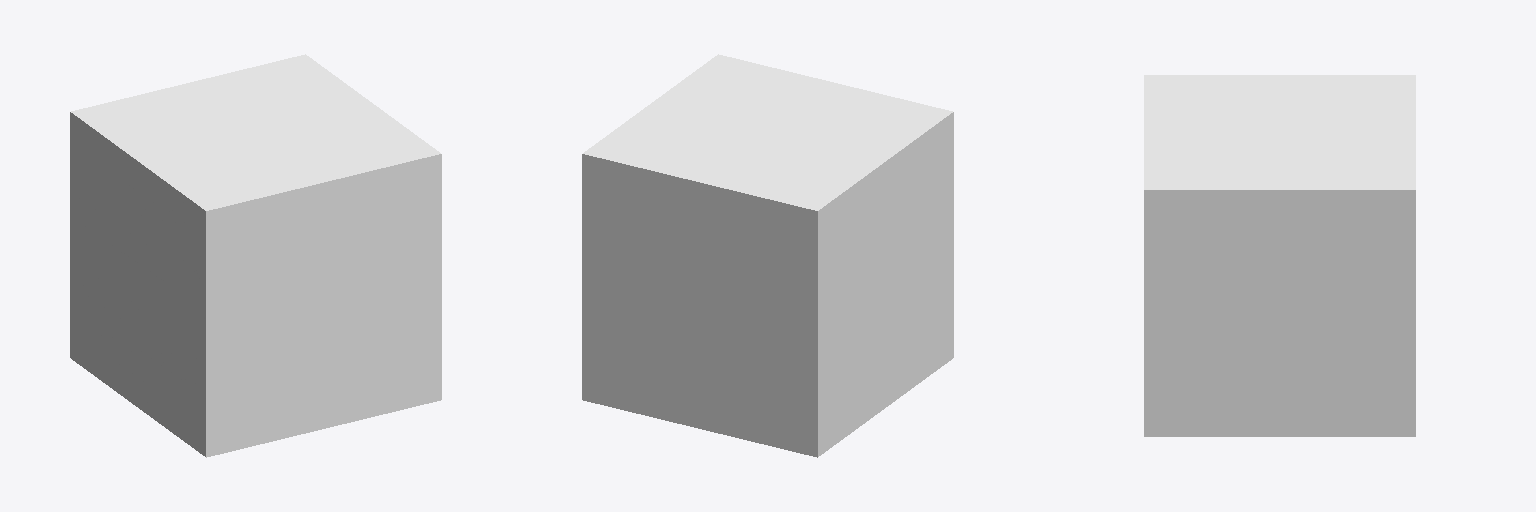
Rendered from Concept.obj.
3 views of the same model, side by side, from view 1: azimuth 30°, elevation 25°; view 2: azimuth 150°, elevation 25°; view 3: azimuth 270°, elevation 25° (orthographic).
Size of the model in its own units: 126 by 126 by 126.